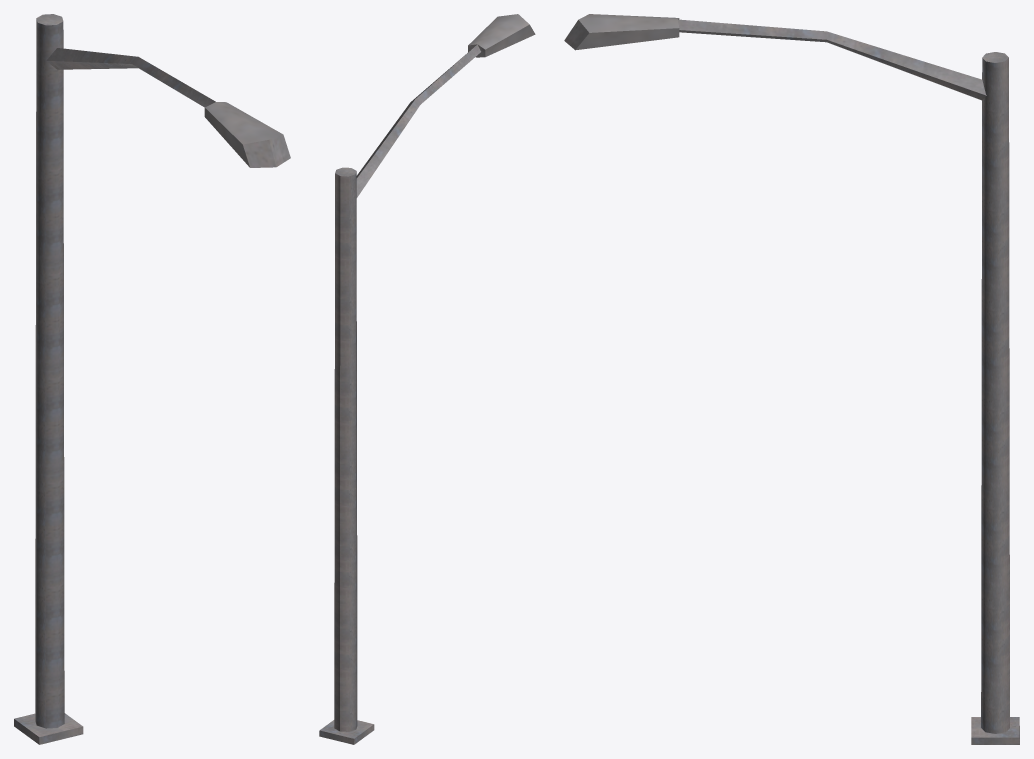
Rendered from streetlightsingle.FBX.
3 renders of one model, left to right at view 1: azimuth 30°, elevation 25°; view 2: azimuth 150°, elevation 25°; view 3: azimuth 270°, elevation 25°, orthographic. The views are drawn at different scales.
Visible parts, largest first — view 1: StreetLightSingle_3; view 2: StreetLightSingle_3; view 3: StreetLightSingle_3.
Part boxes in pixels (x1,y1,x2,y2): StreetLightSingle_3: (14,14,290,744); StreetLightSingle_3: (319,14,535,744); StreetLightSingle_3: (564,14,1019,744).
Bounding box in the file's own units: 5.02 × 81.69 × 47.14.
